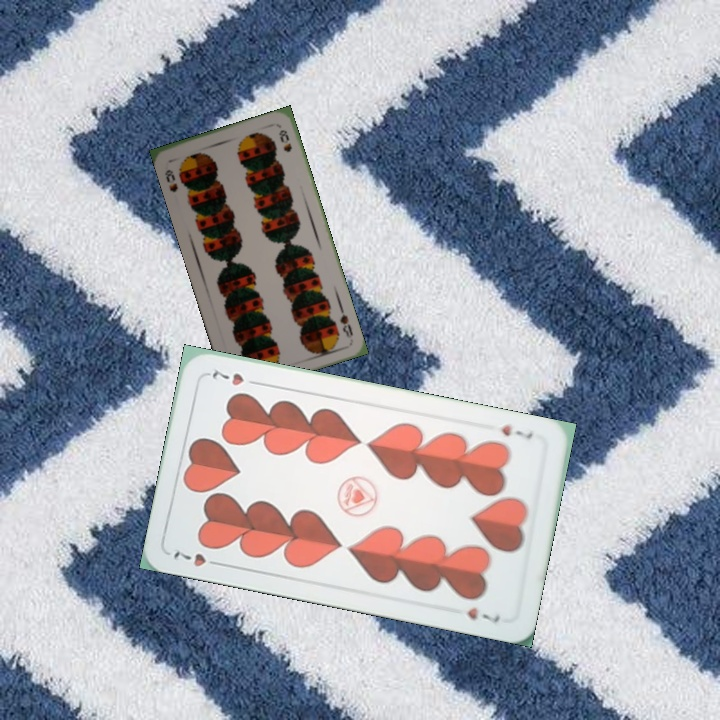H7: (169, 544, 226, 570), (497, 420, 535, 442)
S8: (336, 302, 355, 341), (161, 165, 180, 195)
